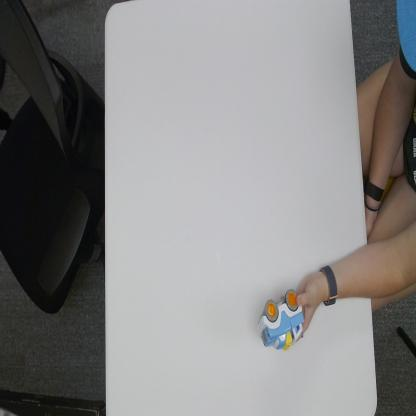Arm: (338, 210, 416, 301)
Car: (256, 286, 308, 356)
Hand: (296, 270, 325, 346)
